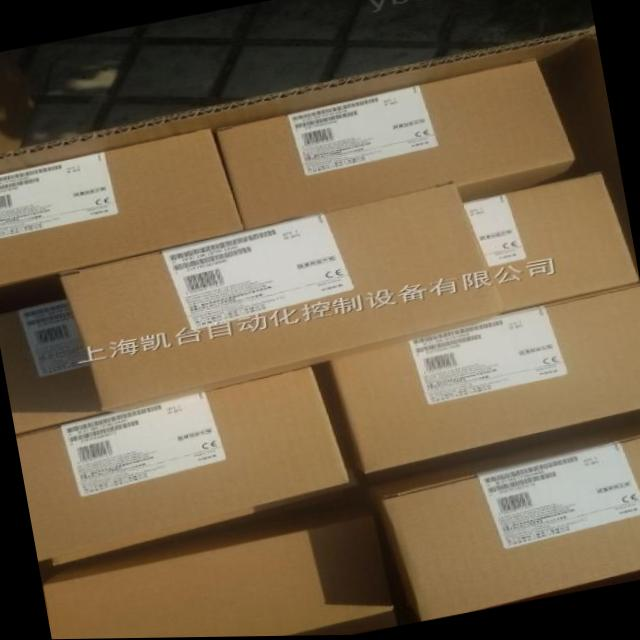box: (57, 184, 503, 416), (18, 366, 349, 565), (314, 285, 640, 476), (211, 60, 574, 229), (366, 424, 640, 623), (40, 494, 405, 639), (0, 129, 244, 287), (460, 172, 640, 320), (0, 298, 97, 434), (0, 271, 63, 314)
